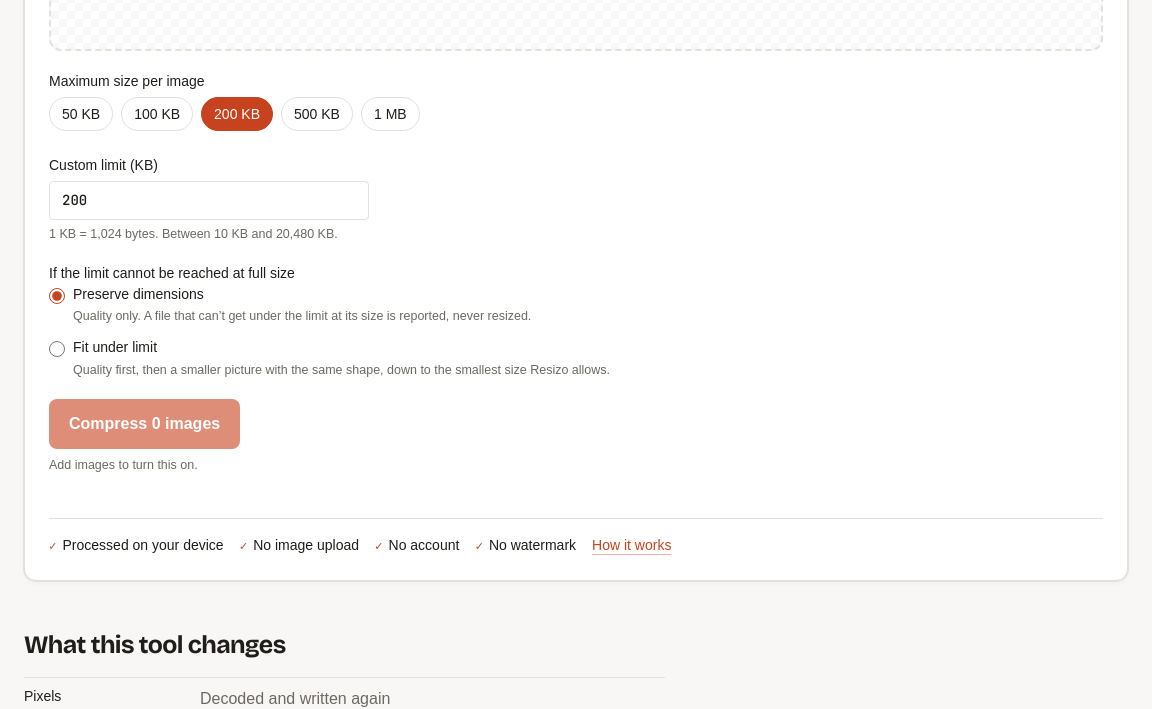
Test case: the policy radios › switches on click
This screenshot has width=1152, height=709.
(page scrolled)
Click the radio button labelled "Fit under limit". click: (57, 349)
box: [49,341,65,357]
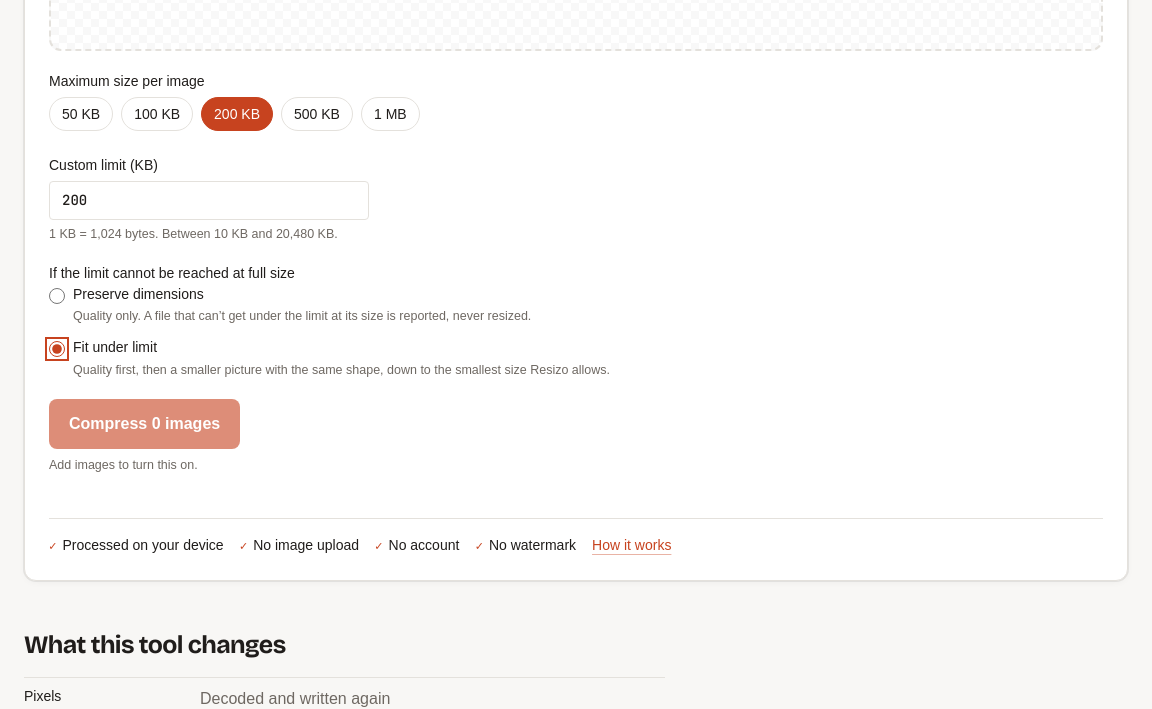
Expected: the radio button labelled "Fit under limit" is checked, [49,341,65,357]
Expected: the radio button labelled "Preserve dimensions" is not checked, [49,288,65,304]
